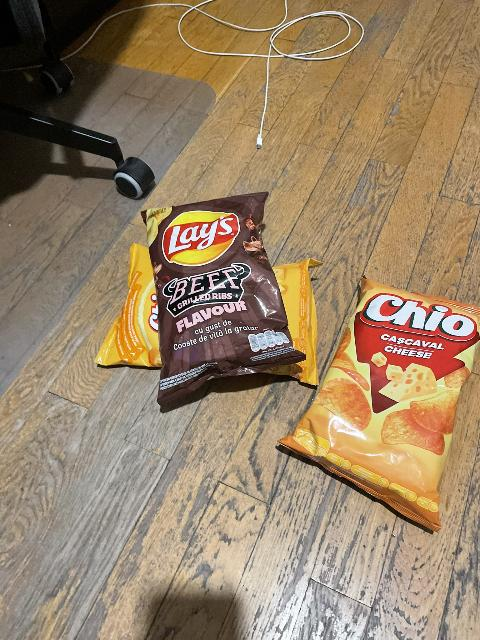Chio Cascaval 125g: (273, 276, 480, 536)
Chio Hula Hoops Cheese 70g: (93, 245, 320, 388)
Lays Beef Grilled Ribs 125g: (136, 187, 306, 406)
